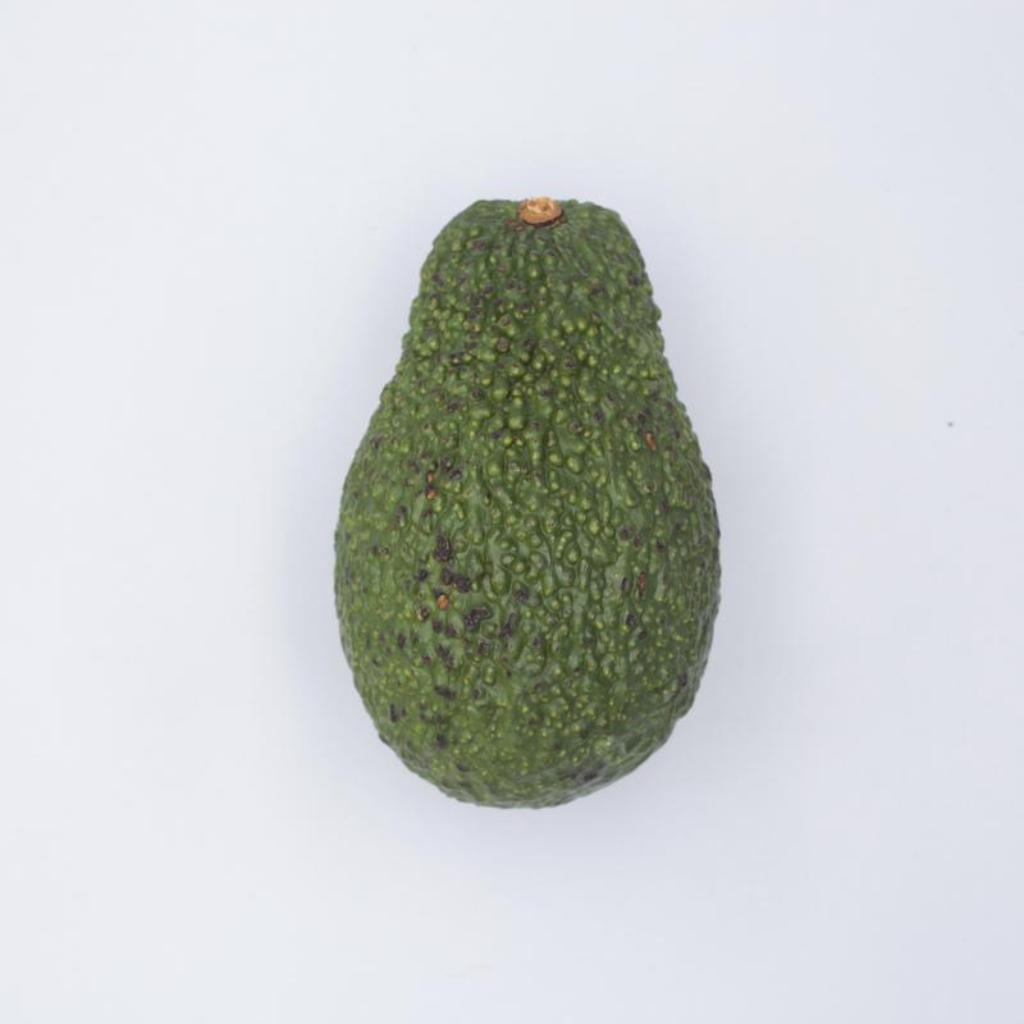scab: (335, 201, 719, 808)
